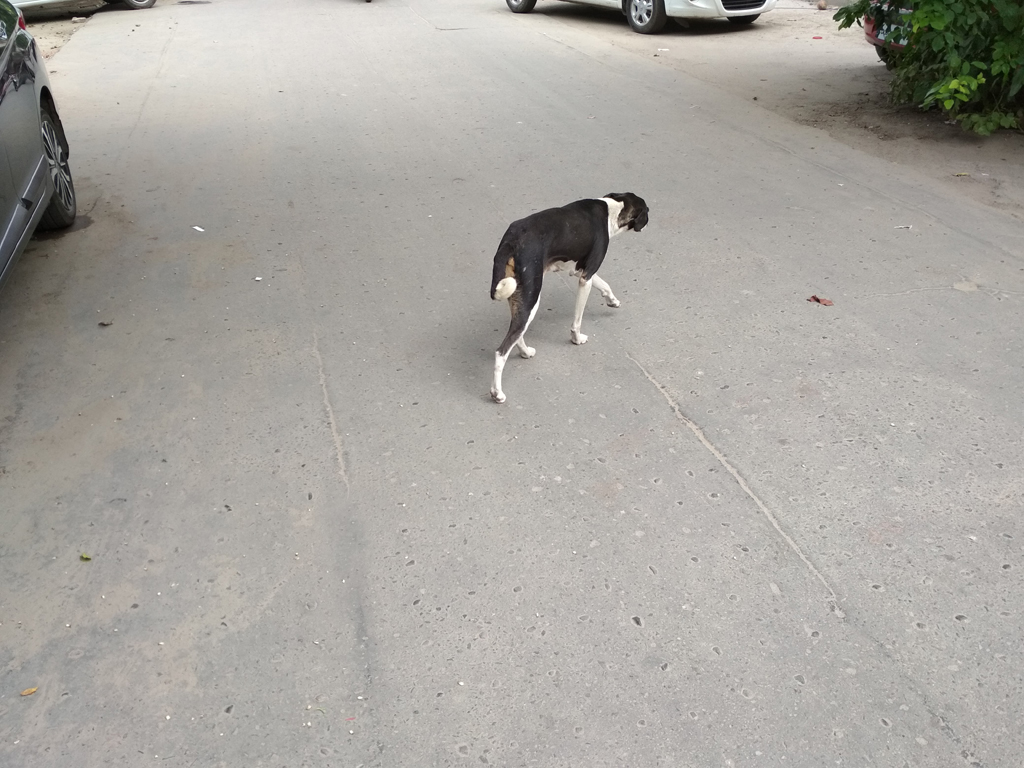dog: (488, 191, 650, 402)
